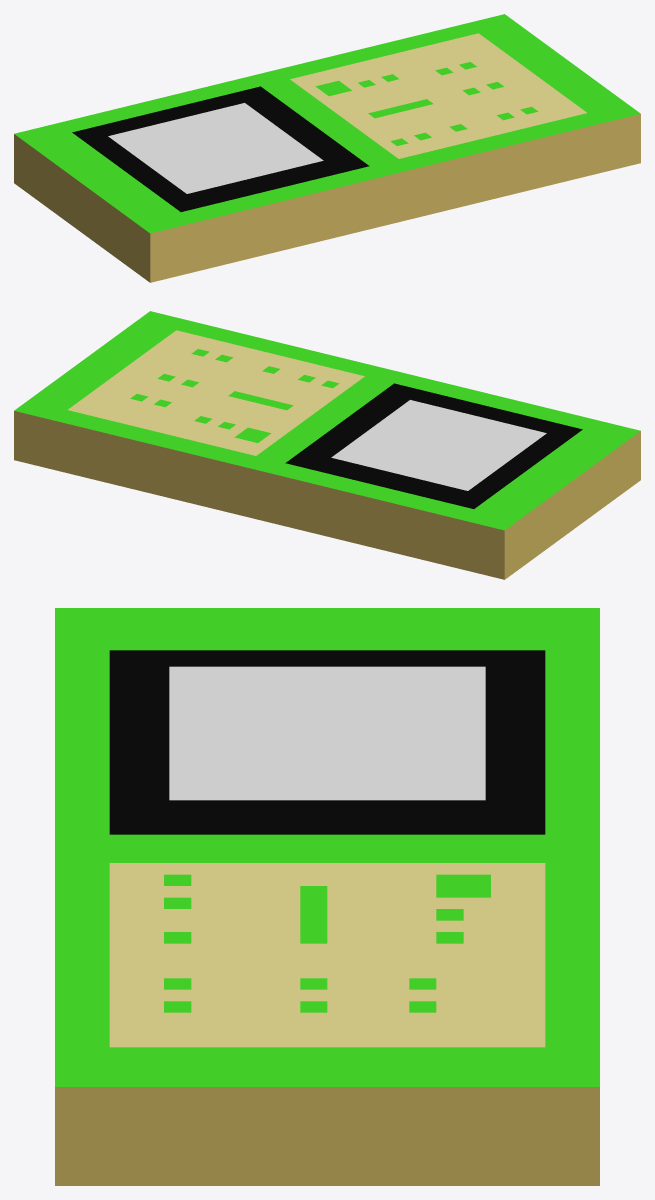
The model's file is remote.glb.
The picture shows the model from 3 angles, top to bottom: view 1: azimuth 30°, elevation 25°; view 2: azimuth 150°, elevation 25°; view 3: azimuth 270°, elevation 25°; orthographic projection. The views are drawn at different scales.
Parts seen in each view (by area): view 1: Cube, Plane.002, Plane.001, Plane; view 2: Cube, Plane.002, Plane.001, Plane; view 3: Cube, Plane.002, Plane.001, Plane.
Part boxes in pixels (x1,y1,x2,y2): Cube: (14,14,640,282); Plane.002: (290,33,586,158); Plane.001: (108,103,323,193); Plane: (72,86,369,211); Cube: (14,311,640,579); Plane.002: (68,330,364,455); Plane.001: (331,400,546,490); Plane: (285,383,582,508); Cube: (55,608,599,1185); Plane.002: (109,863,545,1047); Plane.001: (169,666,485,800); Plane: (109,650,545,834).
Size of the model in its own units: 5.2 by 0.526 by 2.5.
